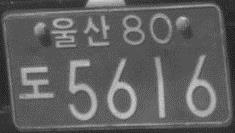0: (146, 13, 175, 44)
1: (149, 54, 169, 121)
5: (66, 56, 99, 123)
6: (185, 54, 219, 119), (107, 56, 139, 118)
8: (120, 12, 146, 45)
도: (18, 65, 57, 100)
울산_O: (50, 13, 111, 48)
